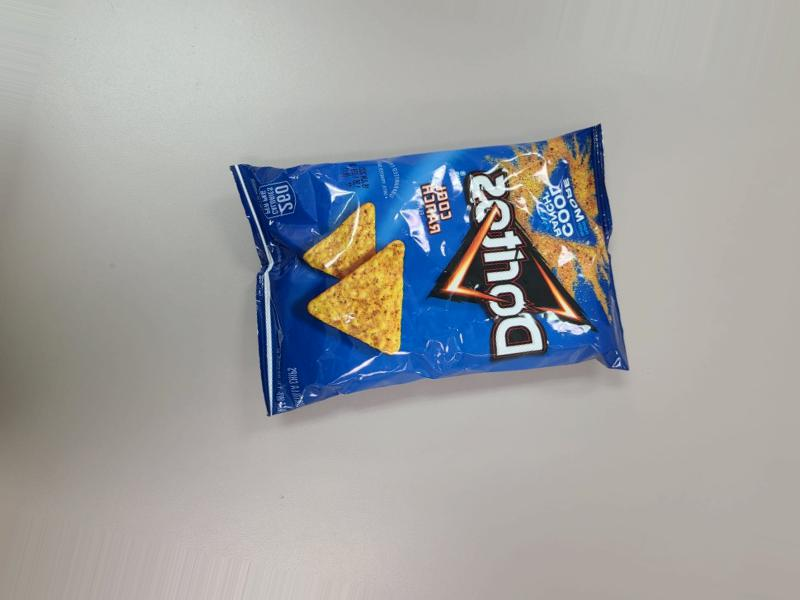doritos: (258, 106, 622, 425)
